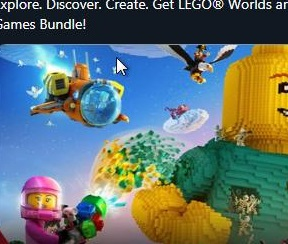cursor: (115, 56, 128, 77)
